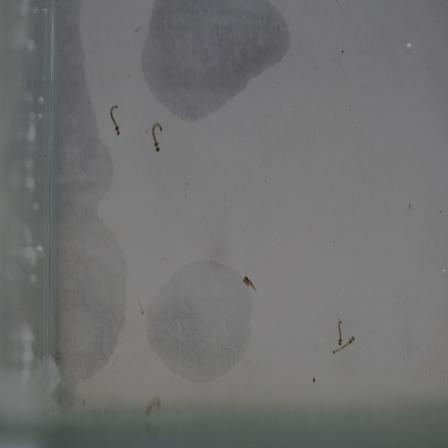Jentik-Nyamuk: (331, 318, 359, 359), (146, 117, 169, 157), (103, 103, 127, 138), (239, 273, 261, 298)
